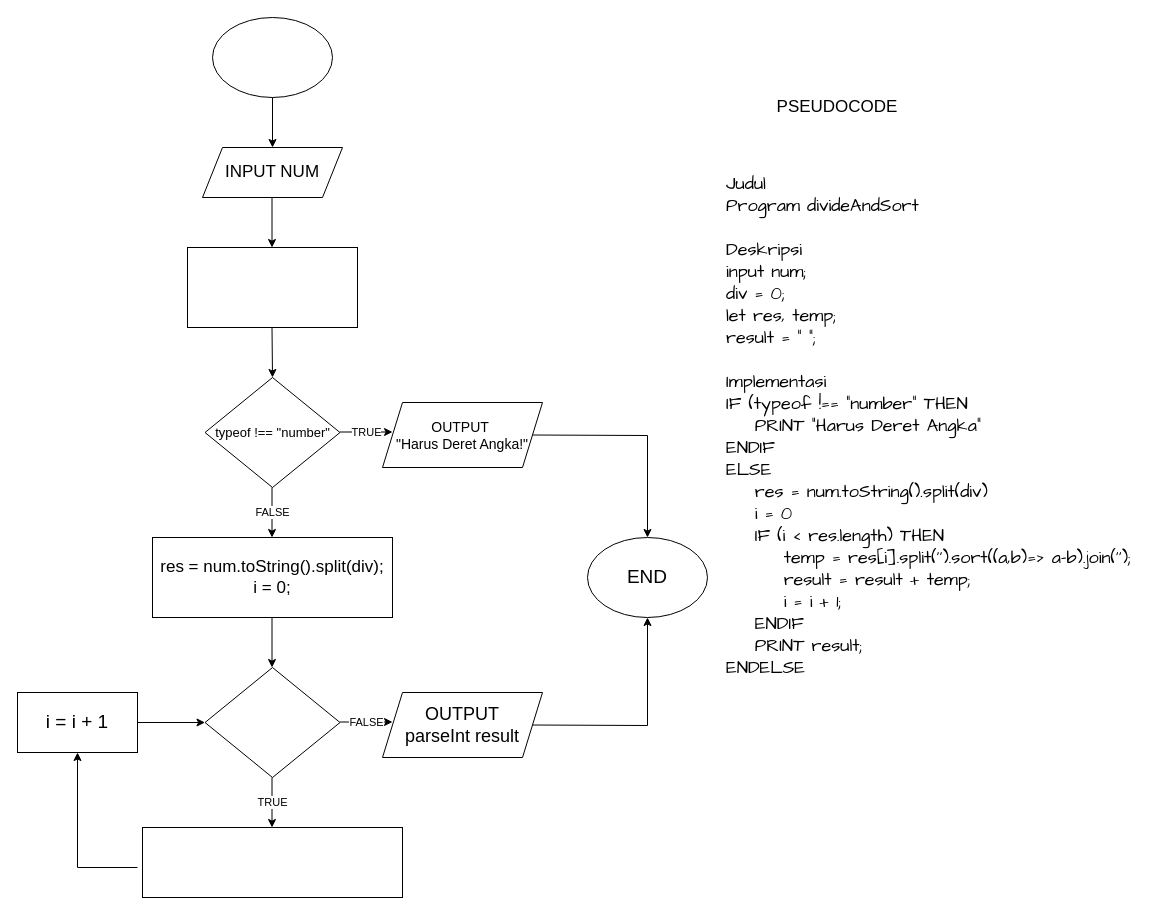
This 1164x915 diagram has some shape labels left out. The shapes that lost their labels are listed below. From the top down, each one's centre as x and y in pixels, then its label:
the point at 272,57: START
the point at 272,287: div = 0; res, temp; result= " ";
the point at 272,722: i < res.length
the point at 272,862: temp = res[i].split('').sort((a,b)=> a-b).join(''); result = result + temp;
